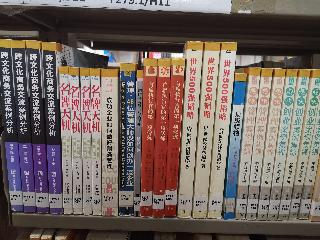book-spine: (190, 40, 224, 220), (206, 41, 238, 218), (253, 67, 288, 221), (175, 40, 204, 219), (286, 68, 320, 220), (277, 68, 310, 222), (9, 38, 37, 214), (266, 68, 298, 222), (242, 67, 274, 220), (233, 66, 261, 221), (0, 37, 24, 214), (26, 40, 50, 215), (40, 41, 63, 216), (148, 58, 172, 218), (222, 73, 247, 221), (136, 58, 158, 216), (163, 58, 184, 217), (117, 62, 137, 217), (100, 68, 119, 218), (56, 66, 74, 216), (68, 67, 84, 215), (79, 67, 92, 216), (89, 69, 101, 217), (132, 70, 144, 217)
